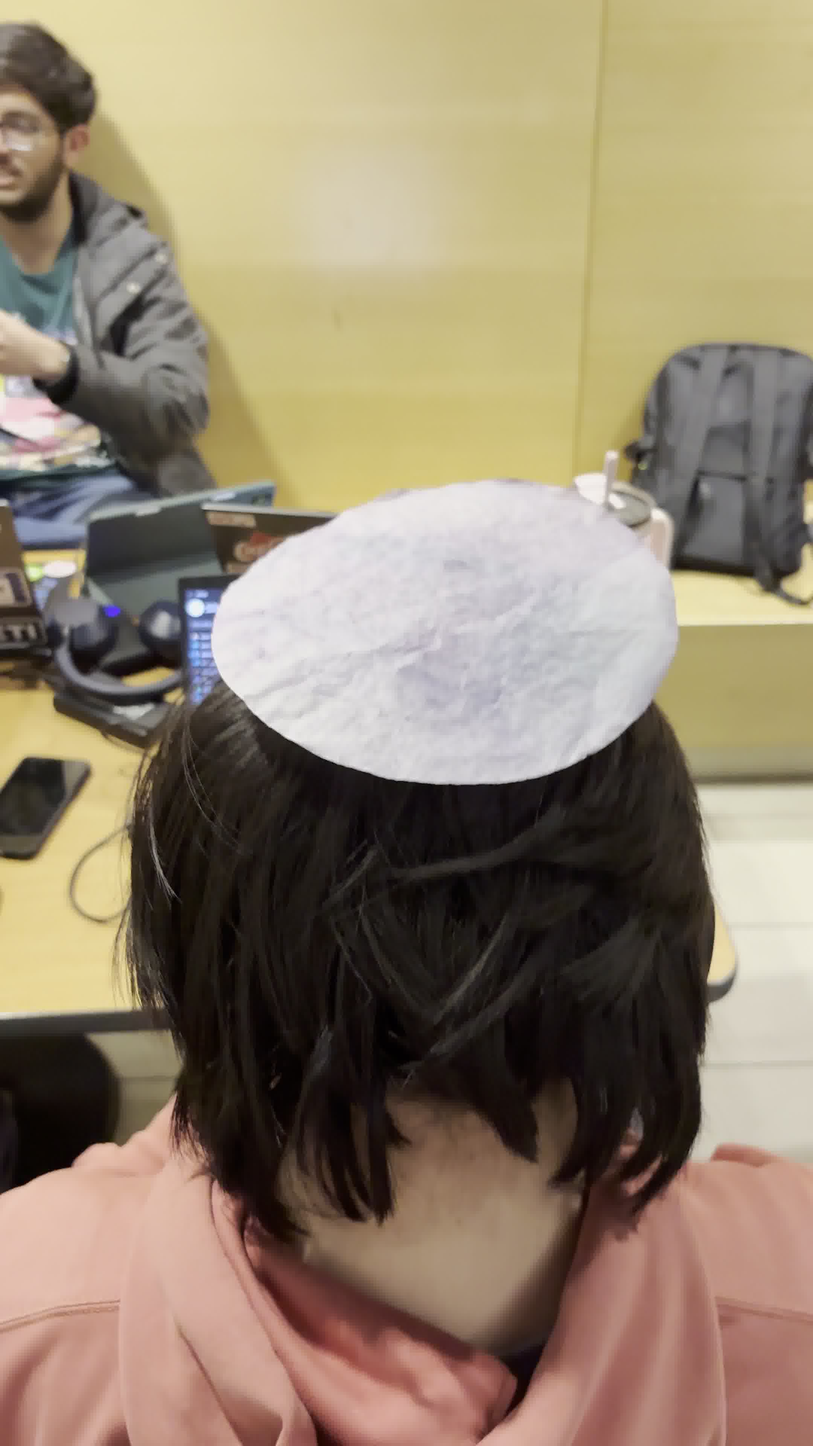Target: (209, 476, 678, 782)
